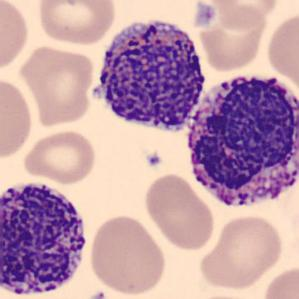Basophil: (179, 66, 299, 217), (85, 11, 214, 142), (0, 174, 93, 299)
Platelets: (192, 0, 217, 30), (144, 151, 164, 169), (84, 289, 107, 299)
RBC: (196, 212, 286, 292), (17, 42, 96, 129), (87, 212, 168, 296), (142, 171, 218, 252), (194, 1, 272, 73), (22, 128, 99, 186), (34, 0, 117, 47), (0, 73, 35, 163), (264, 9, 299, 92), (0, 0, 31, 78), (205, 0, 280, 30), (260, 263, 298, 299), (186, 292, 265, 299)
